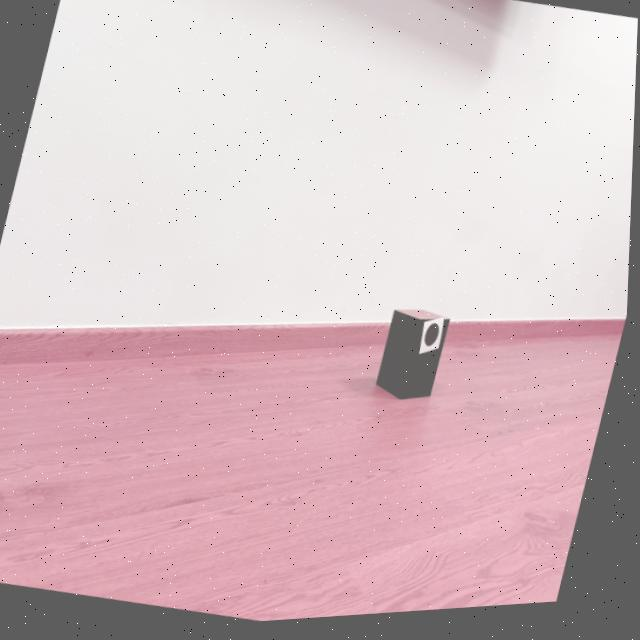CIRCLE: (426, 328, 442, 352)
